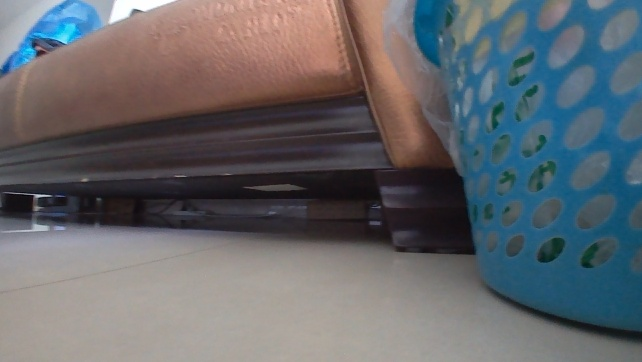sofa1: (0, 0, 478, 258)
